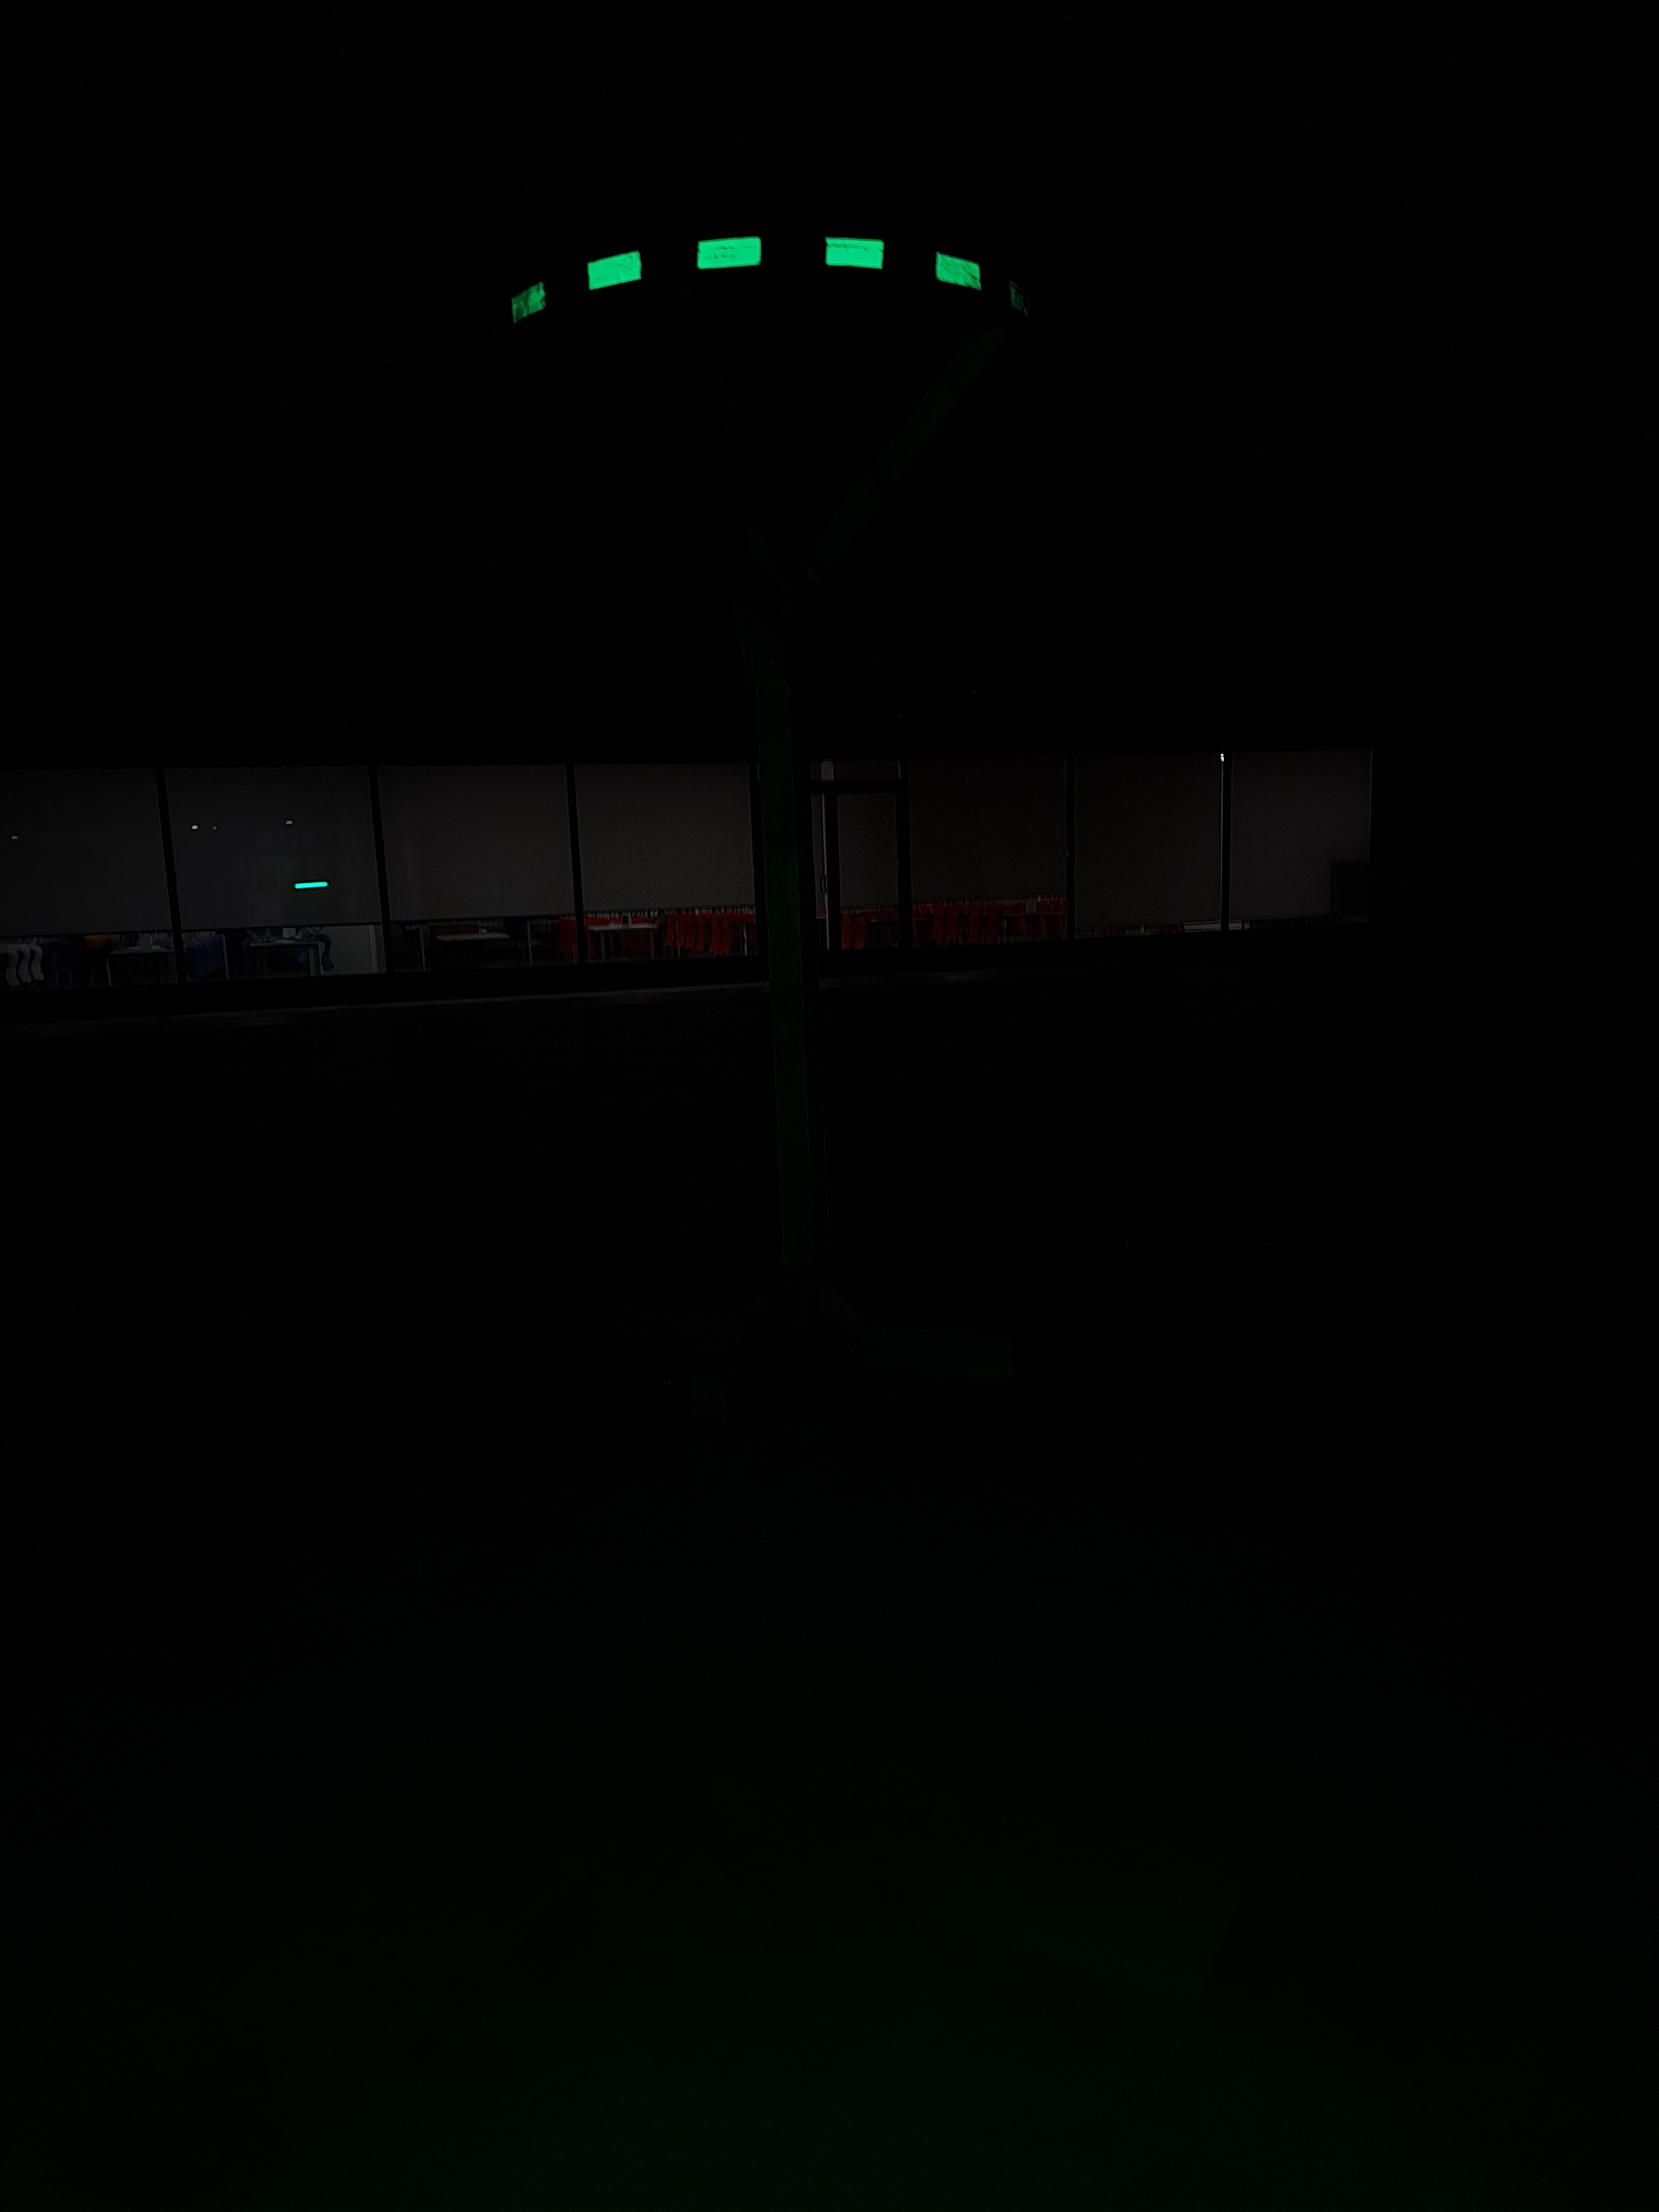hoop: (490, 239, 1040, 338)
